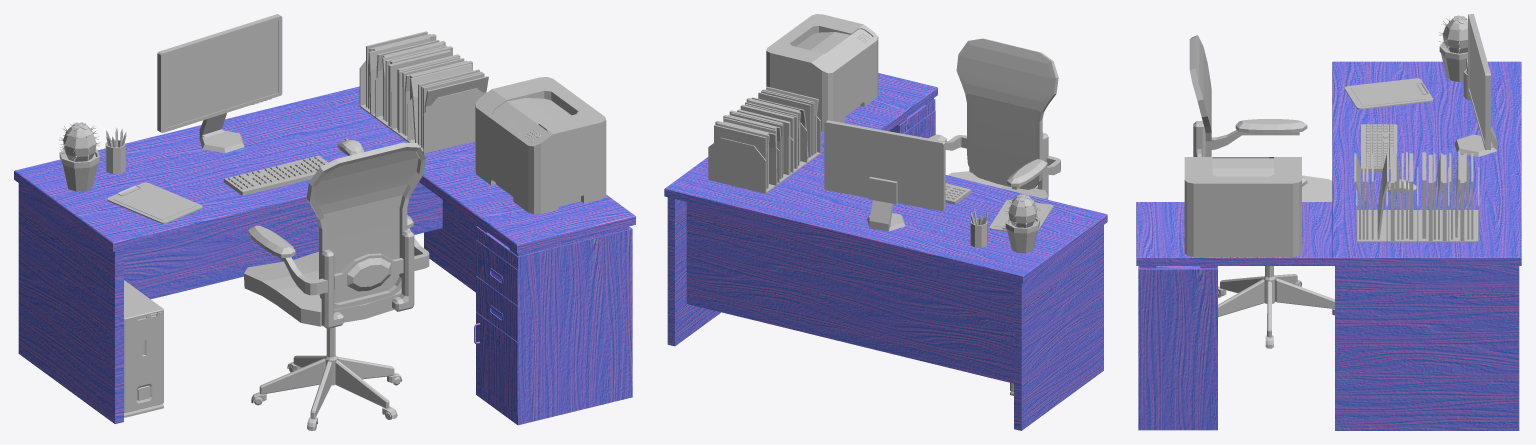
Rendered from Desk.fbx.
3 views of the same model, side by side, from view 1: azimuth 30°, elevation 25°; view 2: azimuth 150°, elevation 25°; view 3: azimuth 270°, elevation 25° (orthographic). The views are drawn at different scales.
Parts seen in each view (by area): view 1: Office_table__1_, Computer_chair__1_, Printer_A__1_, computer_screen__1_, filing_B__1_, Computer__1_, Little_cactus_1__1_, Cupboard__1_, Keyboard__1_, Pen_holder__1_; view 2: Office_table__1_, Computer_chair__1_, computer_screen__1_, Printer_A__1_, filing_B__1_, Little_cactus_1__1_, Cupboard__1_, Pen_holder__1_; view 3: Office_table__1_, Printer_A__1_, filing_B__1_, Computer_chair__1_, computer_screen__1_, Cupboard__1_, Keyboard__1_, Little_cactus_1__1_.
Boxes of the visible parts, x1,y1,x2,y2 form: Office_table__1_: (14,86,635,425); Computer_chair__1_: (243,142,429,430); Printer_A__1_: (475,77,606,214); computer_screen__1_: (157,14,282,153); filing_B__1_: (359,31,488,153); Computer__1_: (124,280,163,417); Little_cactus_1__1_: (58,122,100,191); Cupboard__1_: (107,182,202,223); Keyboard__1_: (223,155,328,195); Pen_holder__1_: (105,128,126,174); Office_table__1_: (664,73,1107,430); Computer_chair__1_: (928,38,1060,199); computer_screen__1_: (824,120,945,231); Printer_A__1_: (766,14,878,131); filing_B__1_: (708,86,820,193); Little_cactus_1__1_: (1004,194,1040,253); Cupboard__1_: (989,200,1053,231); Pen_holder__1_: (970,209,988,247); Office_table__1_: (1136,61,1521,430); Printer_A__1_: (1184,157,1301,256); filing_B__1_: (1354,151,1479,242); Computer_chair__1_: (1189,35,1334,348); computer_screen__1_: (1454,14,1497,156); Cupboard__1_: (1344,78,1433,109); Keyboard__1_: (1361,124,1397,172); Little_cactus_1__1_: (1439,15,1479,81).
Size of the model in its own units: 207 by 137 by 172.
